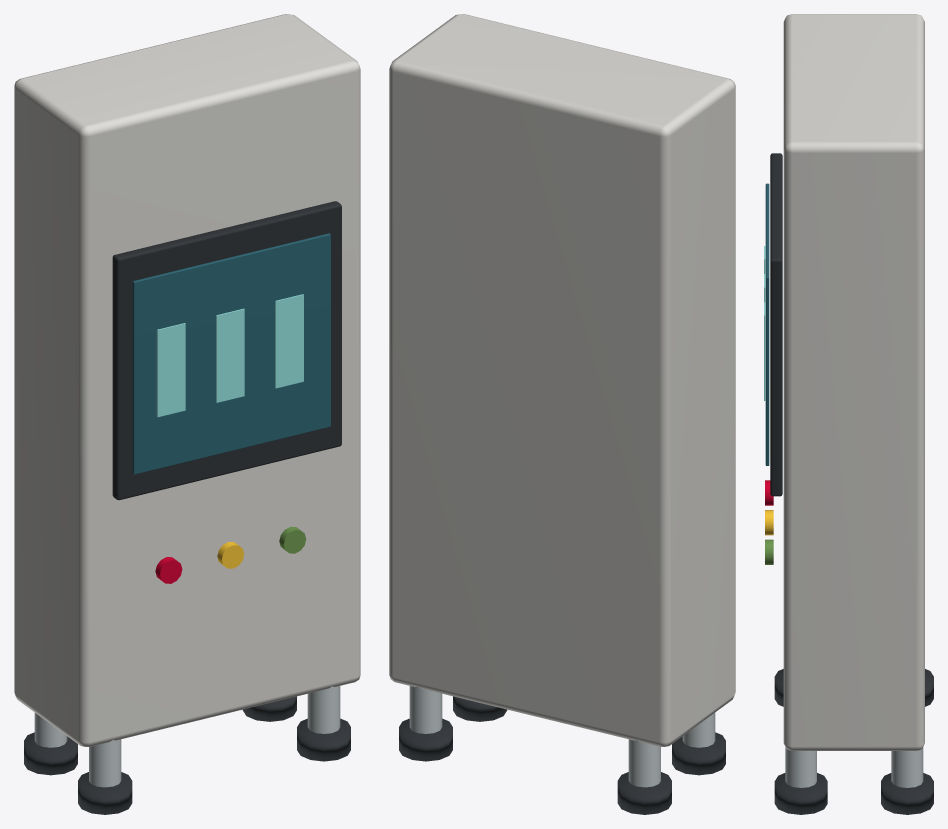
Rendered from Control_Cabinet.fbx.
3 renders of one model, left to right at view 1: azimuth 30°, elevation 25°; view 2: azimuth 150°, elevation 25°; view 3: azimuth 270°, elevation 25°, orthographic. The views are drawn at different scales.
Visible parts, largest first — view 1: Control_Cabinet_White, Control_Cabinet_Screen, Control_Cabinet_Rubber, Control_Cabinet_ScreenLight, Control_Cabinet_Steel; view 2: Control_Cabinet_White, Control_Cabinet_Rubber, Control_Cabinet_Steel; view 3: Control_Cabinet_White, Control_Cabinet_Rubber, Control_Cabinet_Steel, Control_Cabinet_Screen.
Boxes of the visible parts, <box> form: Control_Cabinet_White: <box>14,14,360,746</box>; Control_Cabinet_Screen: <box>132,233,330,474</box>; Control_Cabinet_Rubber: <box>24,201,350,814</box>; Control_Cabinet_ScreenLight: <box>156,294,303,417</box>; Control_Cabinet_Steel: <box>34,686,340,787</box>; Control_Cabinet_White: <box>389,14,735,746</box>; Control_Cabinet_Rubber: <box>399,696,725,814</box>; Control_Cabinet_Steel: <box>409,686,715,787</box>; Control_Cabinet_White: <box>783,14,924,750</box>; Control_Cabinet_Rubber: <box>770,153,933,814</box>; Control_Cabinet_Steel: <box>785,747,923,787</box>; Control_Cabinet_Screen: <box>765,183,769,465</box>.
Bounding box in the file's own units: 90 × 210 × 48.
